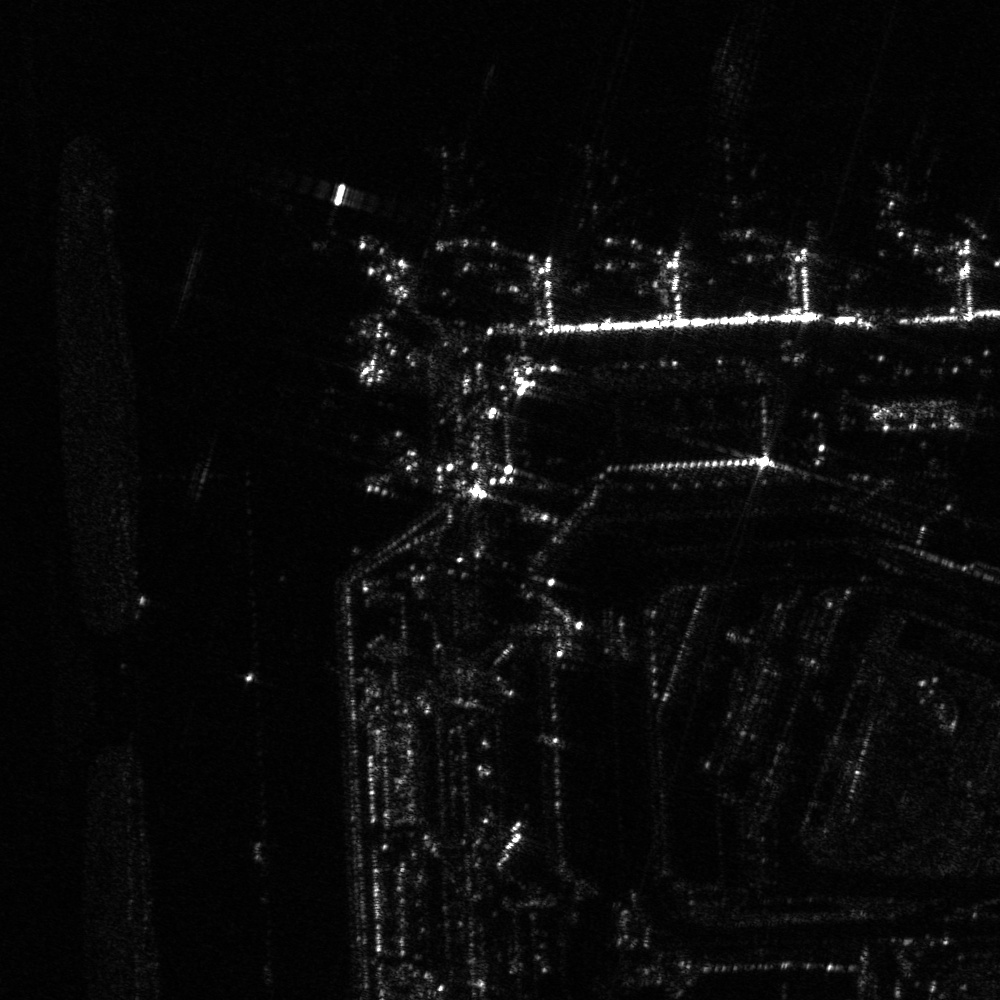A220: (545, 144, 659, 244)
Boeing787: (691, 138, 781, 245), (853, 163, 935, 239)
other: (407, 140, 508, 256)
